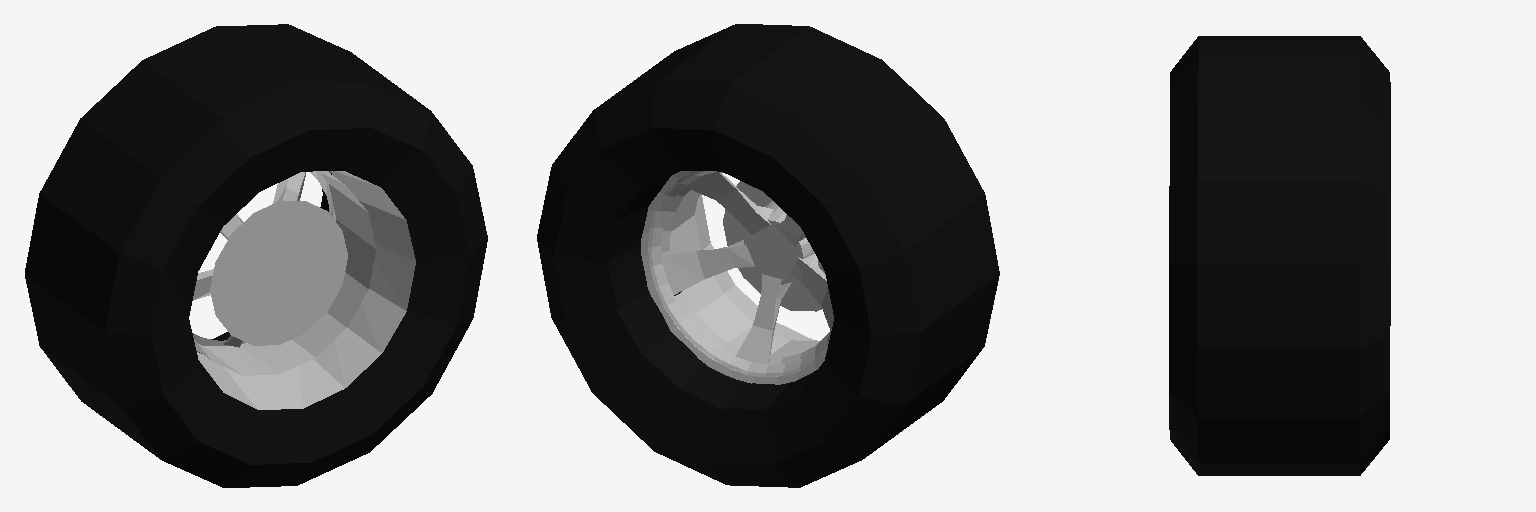
File: whellRightSide.obj
The picture shows the model from 3 angles: view 1: azimuth 30°, elevation 25°; view 2: azimuth 150°, elevation 25°; view 3: azimuth 270°, elevation 25°; orthographic projection.
Parts seen in each view (by area): view 1: Mesh__Orphans; view 2: Mesh__Orphans; view 3: Mesh__Orphans.
Boxes of the visible parts, x1=… form: Mesh__Orphans: x1=25, y1=24, x2=487, y2=487; Mesh__Orphans: x1=537, y1=24, x2=999, y2=487; Mesh__Orphans: x1=1169, y1=36, x2=1390, y2=475.
Size of the model in its own units: 4.02 by 4.02 by 2.01.